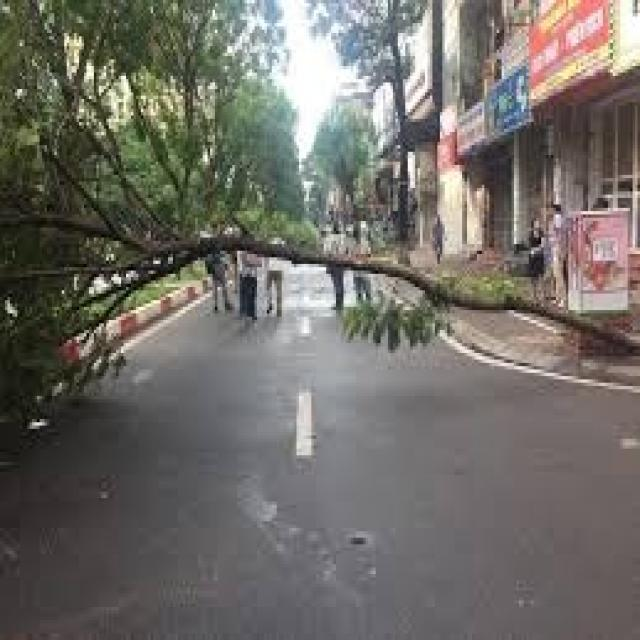fallen_object: (11, 103, 640, 415)
